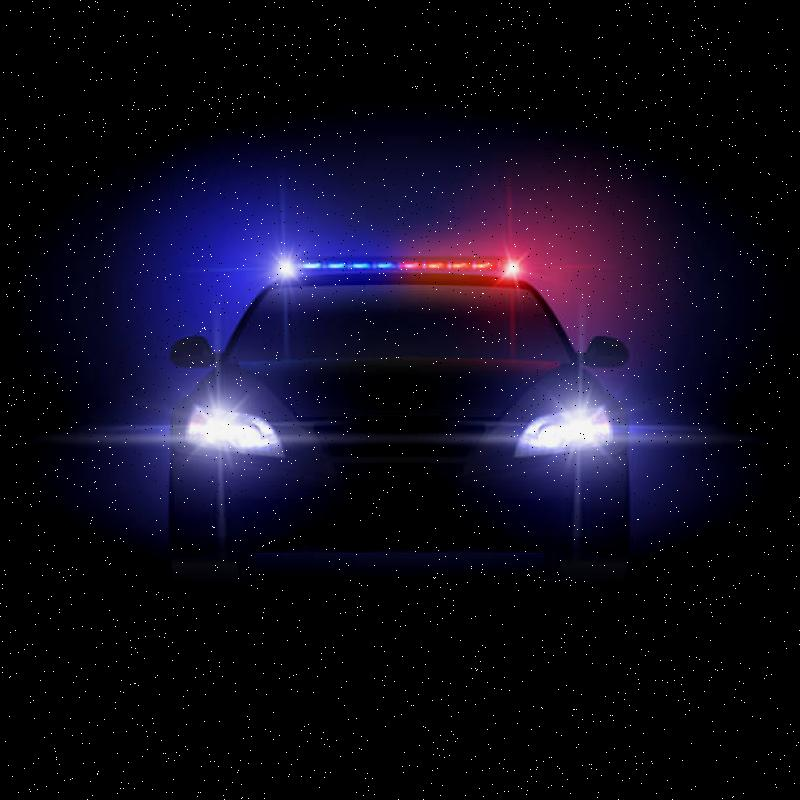AmbulanceSiren: (216, 223, 570, 289)
